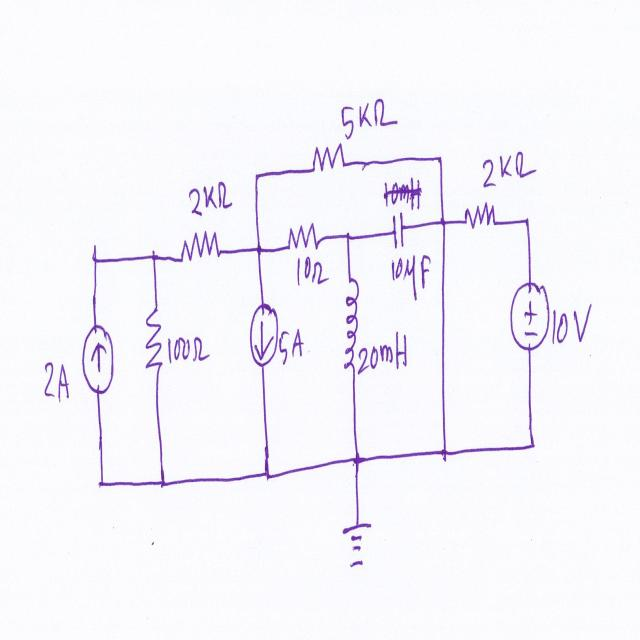capacitor: (387, 208, 409, 252)
current_source: (78, 322, 118, 404), (246, 297, 284, 375)
ground: (339, 512, 373, 578)
inductor: (339, 267, 361, 377)
resistor: (175, 224, 225, 271), (139, 306, 166, 382), (281, 218, 325, 257), (306, 139, 350, 175), (460, 199, 499, 238)
voltage_source: (505, 281, 555, 360)
